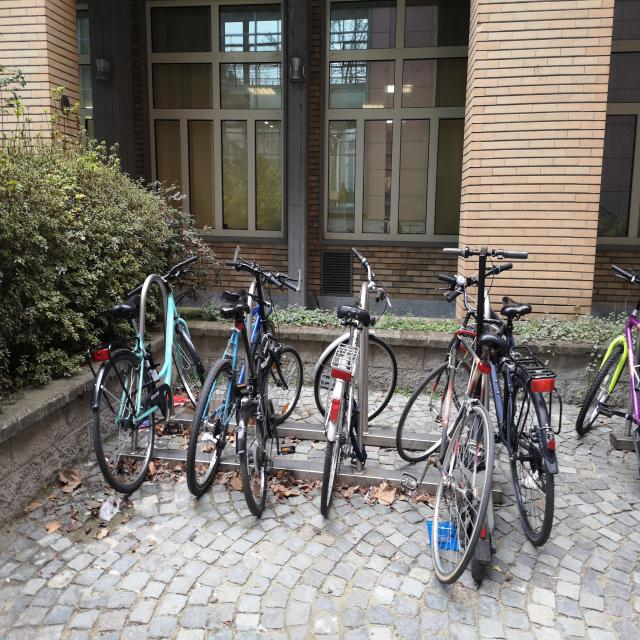Bicycle: (462, 242, 570, 544), (220, 243, 320, 504), (99, 255, 196, 500), (323, 219, 386, 527), (427, 259, 486, 582), (589, 210, 640, 481), (200, 236, 239, 513)
